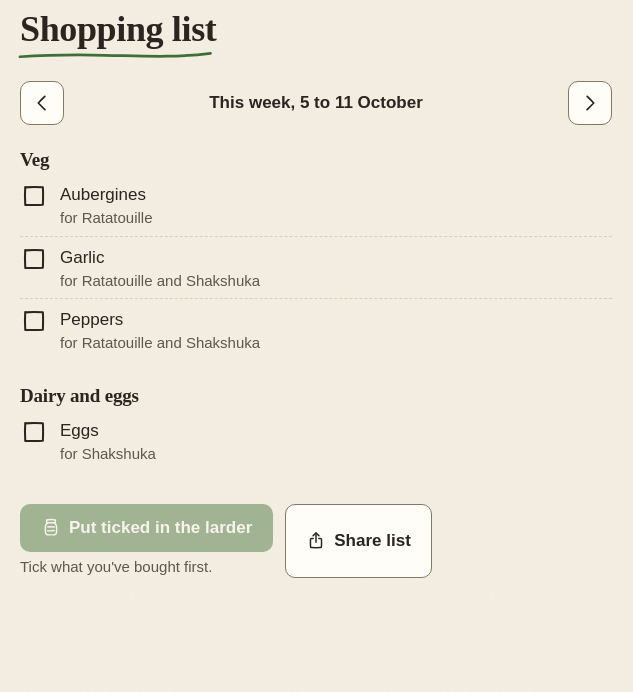
Test: ShopScreen › moves between weeks and back to this one
Check: the button "Back to this week" is not shown
Click the button named "Next week" at (590, 103), box [568, 81, 612, 125]
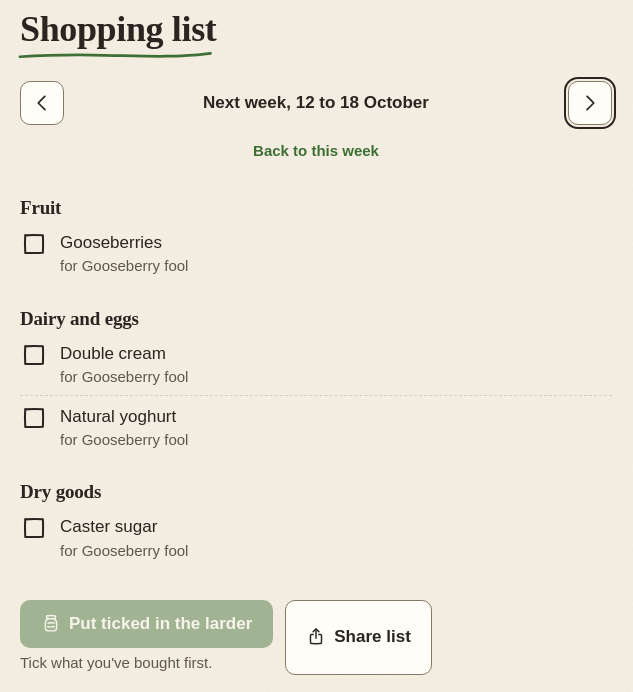
Check: the text "Next week, 12 to 18 October" is shown, box [203, 93, 429, 112]
Check: the text "Aubergines" is gone
Click the button named "Previous week" at (42, 103), box [20, 81, 64, 125]
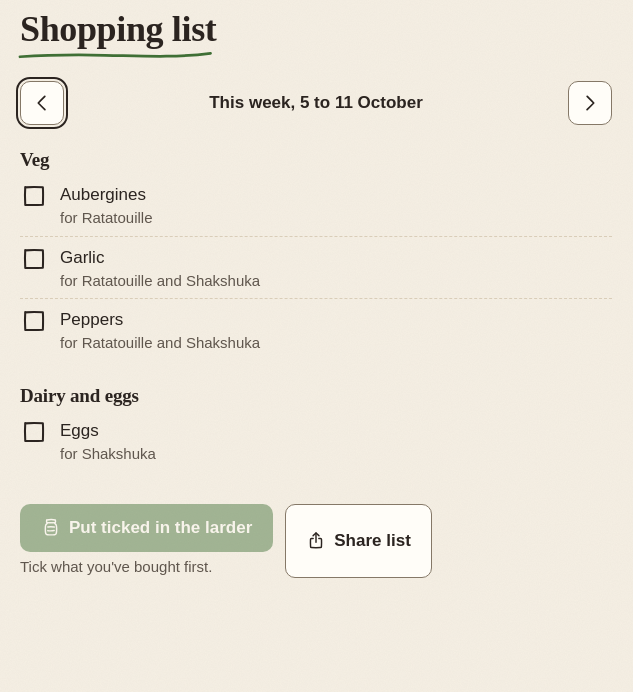
Click the button named "Previous week" at (42, 103), box [20, 81, 64, 125]
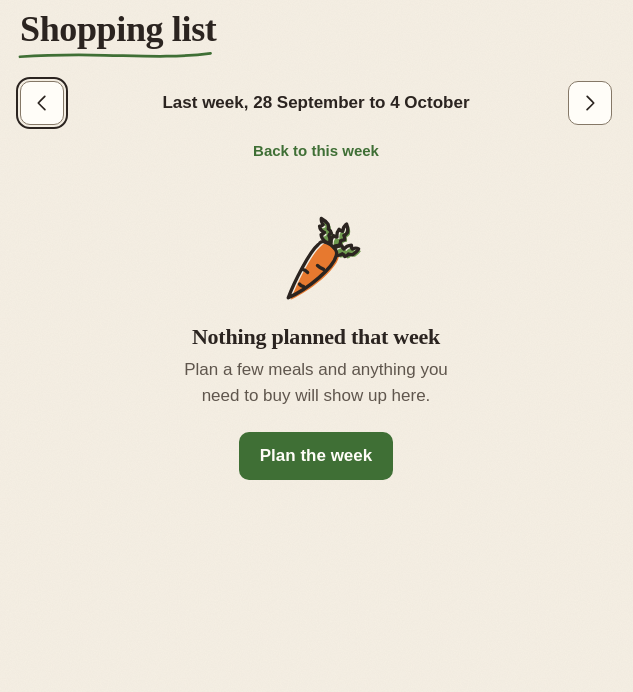
Check: the text "Last week, 28 September to 4 October" is shown, box [162, 93, 470, 112]
Check: the heading "Nothing planned that week" is shown, box [192, 325, 440, 349]
Click the button "Back to this week" at (316, 151), box [244, 129, 388, 173]
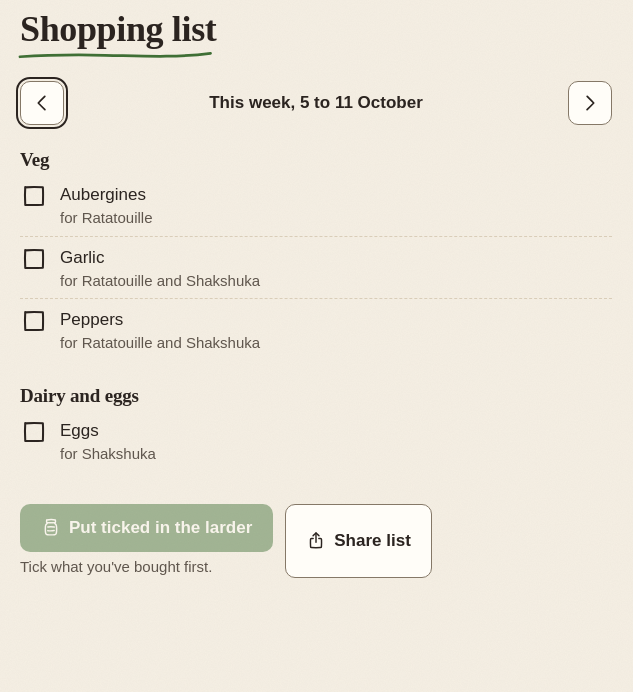
Check: the text "This week, 5 to 11 October" is shown, box [209, 93, 423, 112]
Check: the checkbox labelled "Aubergines" is shown, box [20, 182, 153, 226]
Check: the button "Back to this week" is gone
